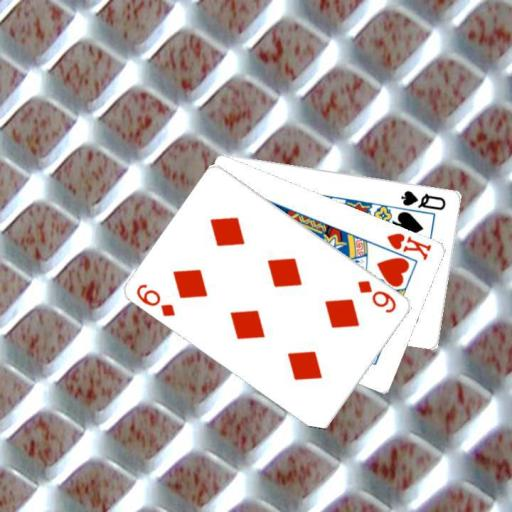6D: (133, 280, 177, 319), (355, 277, 398, 315)
KH: (384, 229, 434, 262)
QS: (398, 187, 448, 211)
